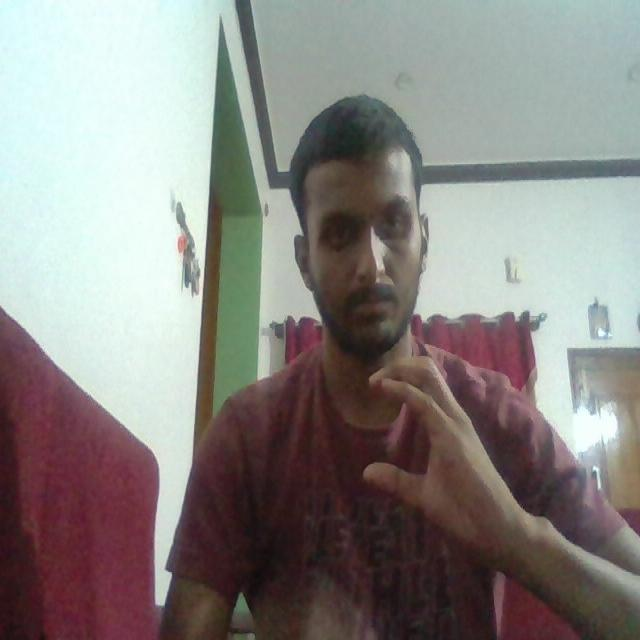no: (311, 348, 526, 550)
